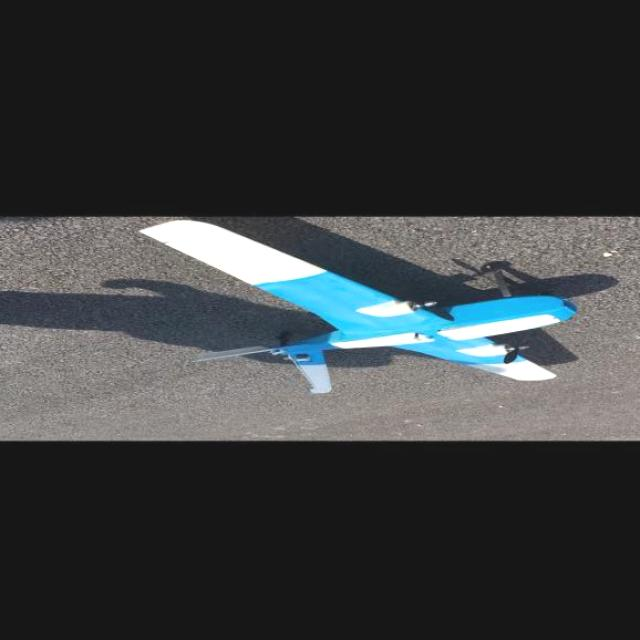plane: (140, 216, 582, 396)
